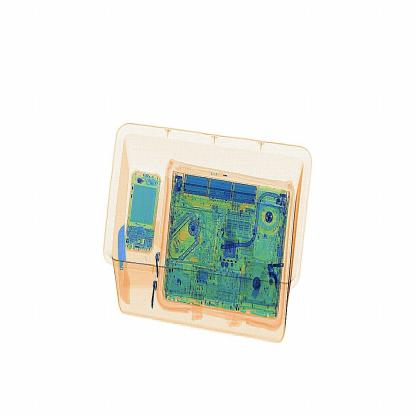wrench: (115, 219, 131, 310)
